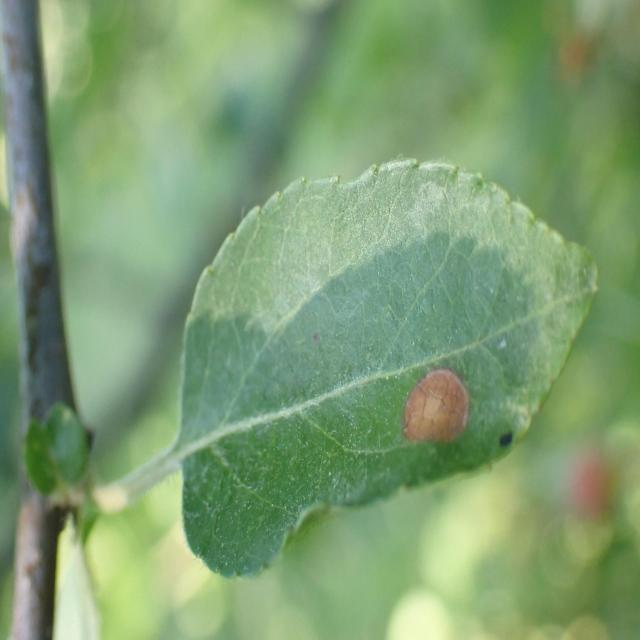Black Rot: (390, 344, 470, 454)
